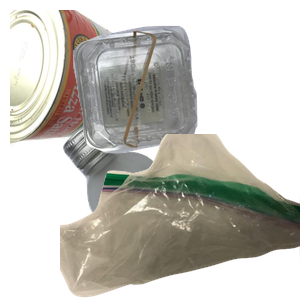glass: (60, 120, 300, 300)
metal: (10, 10, 159, 152)
plastic: (71, 23, 300, 169)
trash: (60, 134, 300, 300)
